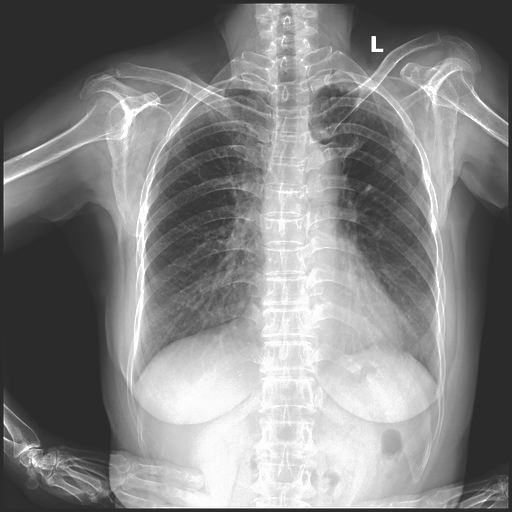Calcification: (311, 69, 374, 94)
Consolidation: (302, 141, 344, 196)
Nodule/Mass: (237, 301, 411, 349)
Other lesion: (392, 143, 408, 162)
Pneumothorax: (393, 137, 412, 163)
